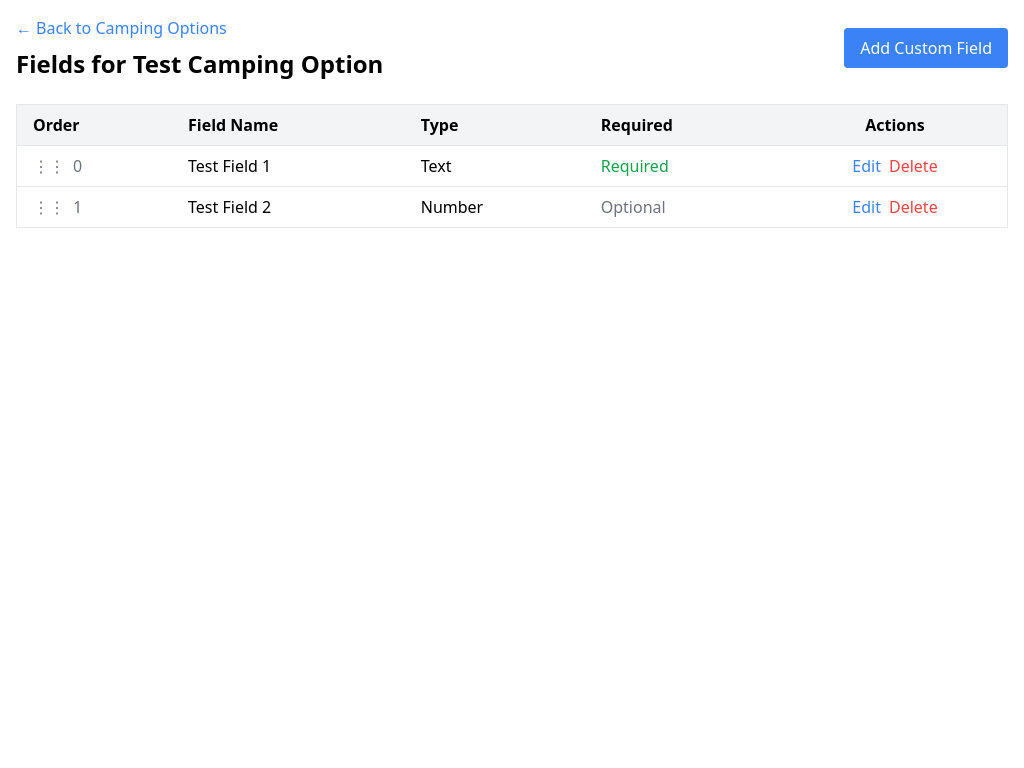
Test: AdminCampingOptionFieldsPage › should display an error message when field creation fails
# Open the add field modal
Click the button "Add Custom Field": (926, 48) 844,28 -> 1008,68
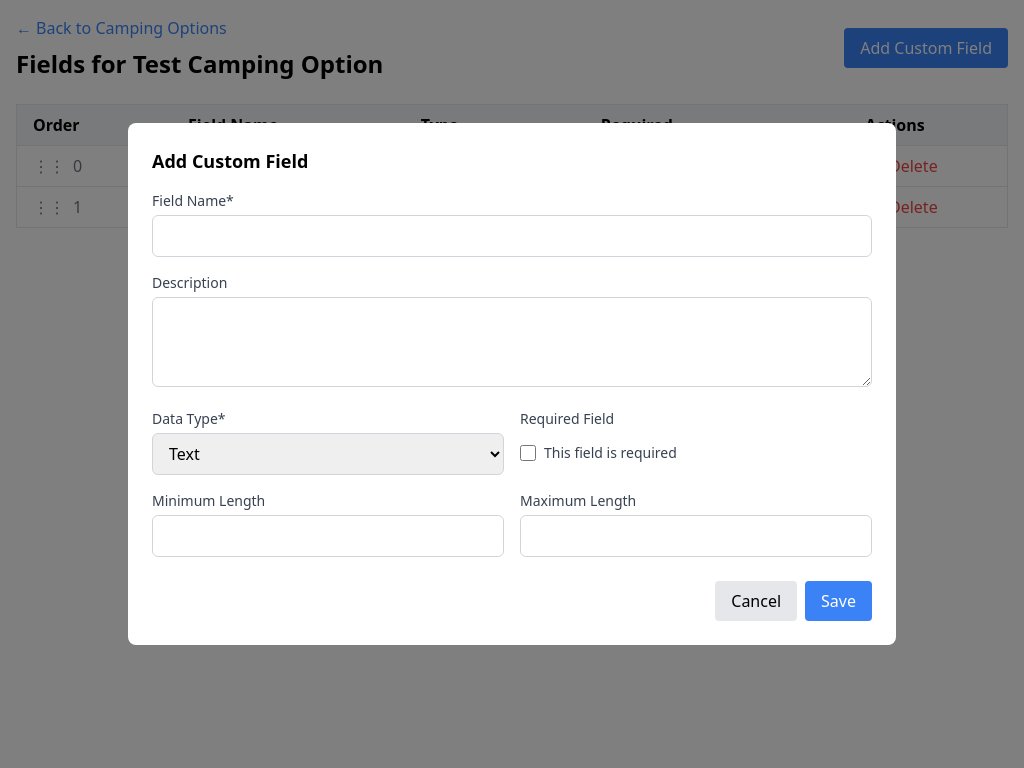
# Fill out the form
In the field labelled "Field Name*": (512, 236) 152,215 -> 872,257, type "New Field"
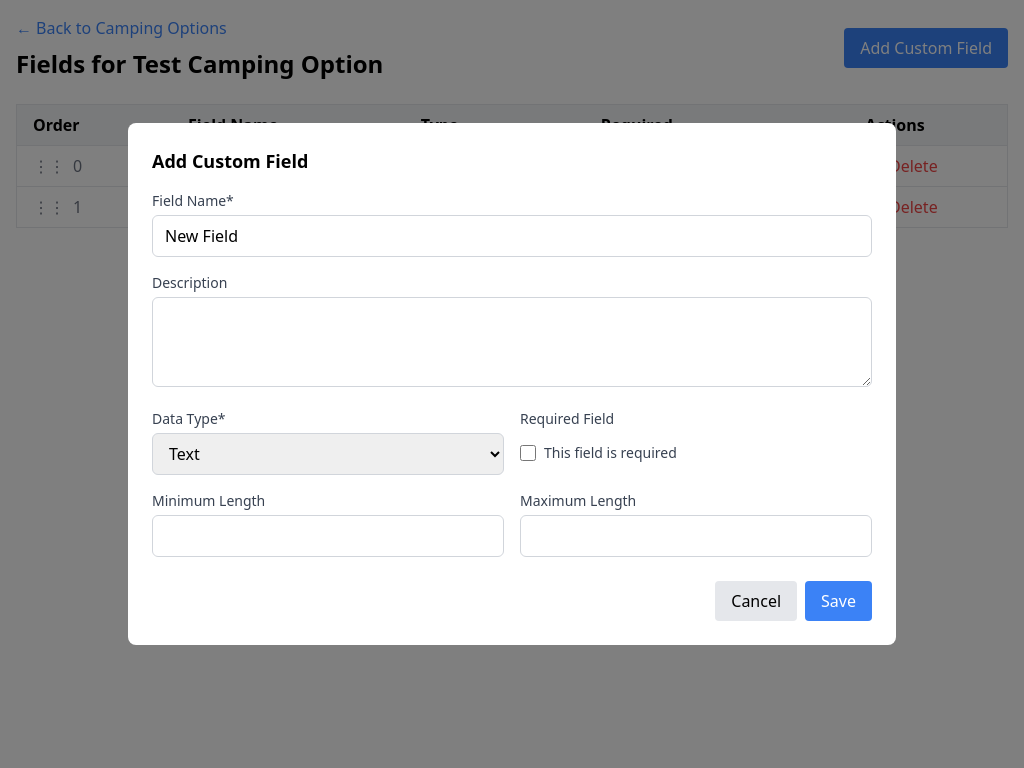
# Submit the form
Click the button "Save": (839, 601) 805,581 -> 872,621
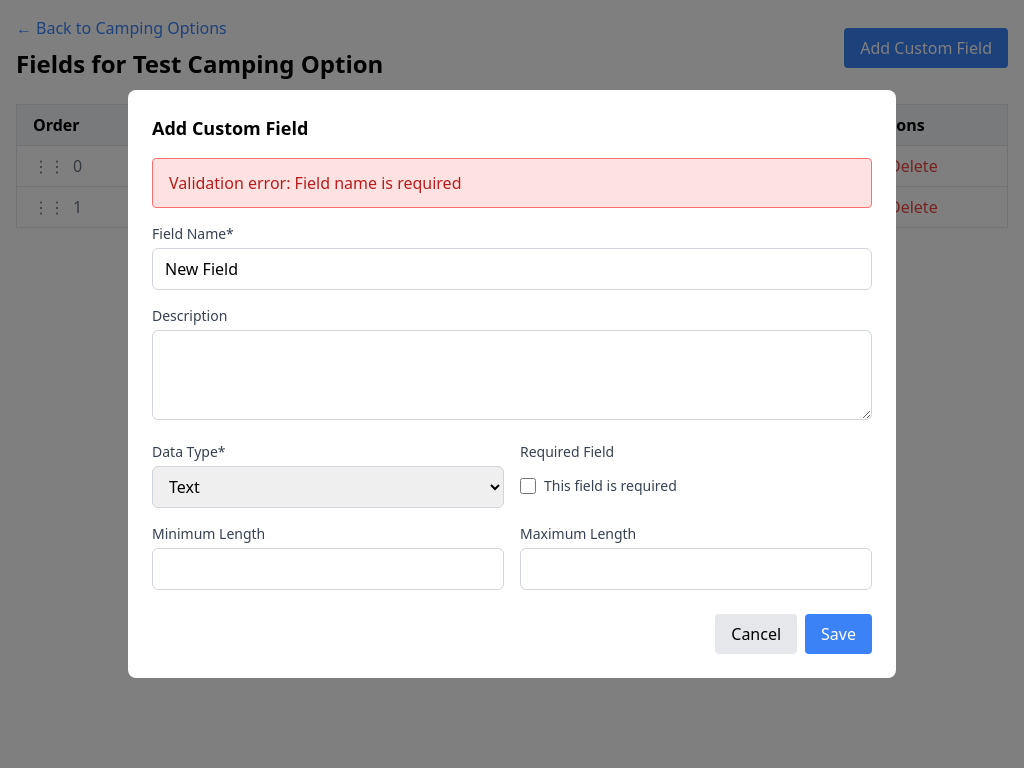
Expected: the text "Validation error: Field name is required" is shown, 169,172 -> 462,194
